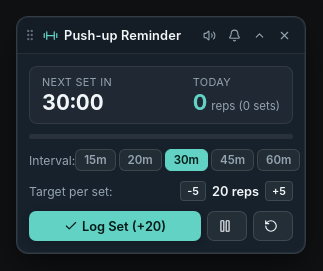
Test: Desktop Float Widgets › PushupReminderWidget Component › logs a completed set and increments today's tally
Click the button "Log Set (+20)": [115, 226] box top-left (29, 211), bottom-right (201, 241)
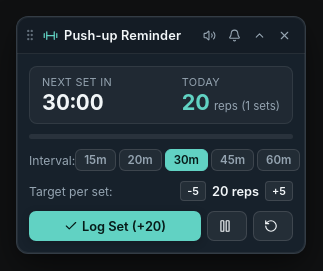
Expected: the text "20" is shown, top-left (182, 89), bottom-right (210, 115)
Expected: the text "reps (1 sets)" is shown, top-left (214, 99), bottom-right (280, 113)
